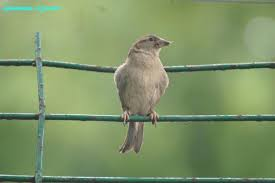hsparrow: (110, 32, 175, 157)
